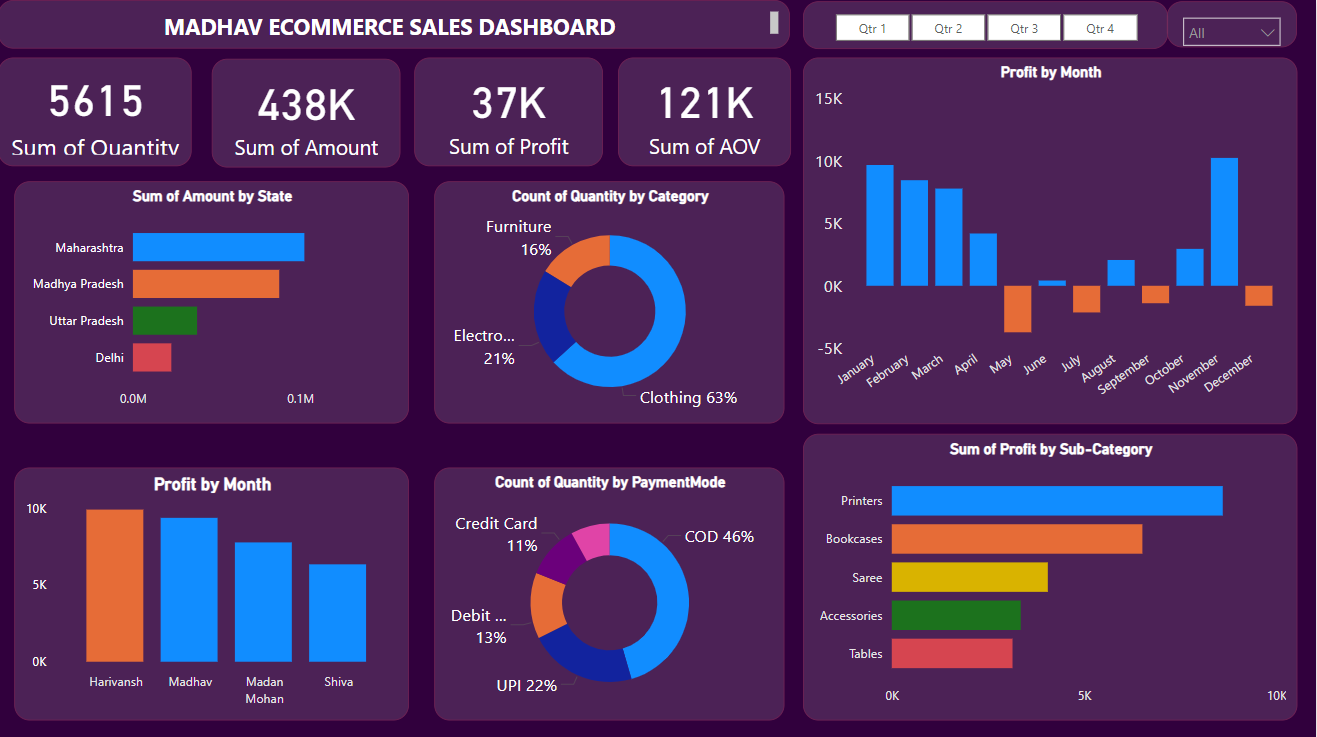

Layout of this report page (visuals, bound fields, positions):
{"tool":"powerbi","page":{"name":"Page 1","canvas":[1280,720],"ordinal":0},"visuals":[{"type":"textbox","box":[0,0,768.9,47],"z":1},{"type":"columnChart","title":"Profit by Month","fields":{"Y":["Details.Profit"],"Category":["Orders.Order Date.Variation.Date Hierarchy.Month"]},"box":[781,55.3,480.3,355.9],"z":3},{"type":"barChart","fields":{"Category":["Details.Sub-Category"],"Y":["Details.Profit"]},"box":[781,421.6,480.3,278.2],"z":4},{"type":"donutChart","fields":{"Category":["Details.Category"],"Y":["Details.Quantity"]},"box":[423.3,176.2,340.4,235],"z":5},{"type":"donutChart","fields":{"Category":["Details.PaymentMode"],"Y":["Details.Quantity"]},"box":[423.3,454.4,340.4,245.4],"z":6},{"type":"card","fields":{"Values":["Details.Amount"]},"box":[207.3,57,183.2,105.4],"z":7},{"type":"card","fields":{"Values":["Details.Quantity"]},"box":[0,55.3,188.3,105.4],"z":8},{"type":"card","fields":{"Values":["Details.Profit"]},"box":[404.3,55.3,183.2,105.4],"z":9},{"type":"card","fields":{"Values":["Details.AOV"]},"box":[601.3,55.3,167.6,105.4],"z":10},{"type":"barChart","fields":{"Category":["Orders.State"],"Y":["Details.Amount"]},"box":[15.6,176.2,383.6,235],"z":11},{"type":"columnChart","title":"Profit by Month","fields":{"Y":["Details.Amount"],"Category":["Orders.CustomerName"]},"box":[15.6,454.4,383.6,245.4],"z":12},{"type":"slicer","fields":{"Values":["Orders.Order Date.Variation.Date Hierarchy.Quarter"]},"box":[781,1.7,354.2,46.7],"z":13},{"type":"slicer","fields":{"Values":["Orders.State"]},"box":[1135.2,1.7,126.1,44.9],"z":16}]}

Visuals, with their boxes in screenshot pixels (x1, y1, x2, y2), scaled from the page's 1280x720 canvas onto the 1317x737 screenshot:
textbox: bbox(0, 0, 791, 48)
"Profit by Month" columnChart: bbox(804, 57, 1298, 421)
barChart - Details.Sub-Category x Details.Profit: bbox(804, 432, 1298, 716)
donutChart - Details.Category x Details.Quantity: bbox(436, 180, 786, 421)
donutChart - Details.PaymentMode x Details.Quantity: bbox(436, 465, 786, 716)
card - Details.Amount: bbox(213, 58, 402, 166)
card - Details.Quantity: bbox(0, 57, 194, 164)
card - Details.Profit: bbox(416, 57, 604, 164)
card - Details.AOV: bbox(619, 57, 791, 164)
barChart - Orders.State x Details.Amount: bbox(16, 180, 411, 421)
"Profit by Month" columnChart: bbox(16, 465, 411, 716)
slicer - Orders.Order Date.Variation.Date Hierarchy.Quarter: bbox(804, 2, 1168, 50)
slicer - Orders.State: bbox(1168, 2, 1298, 48)
